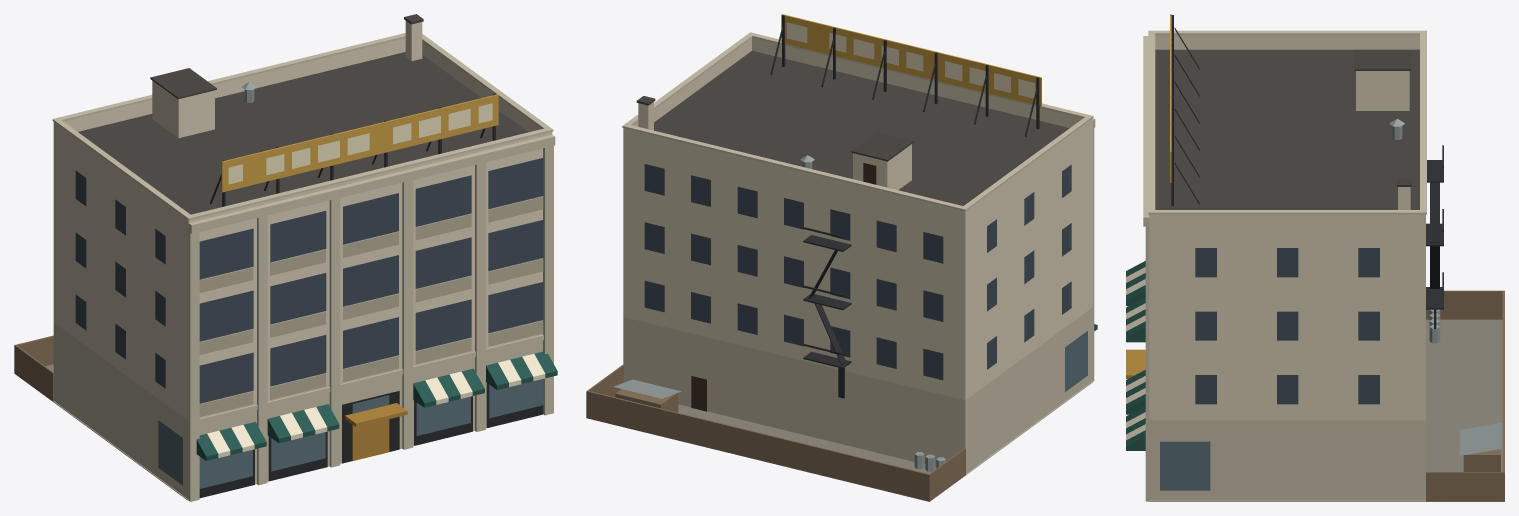
Rendered from office_wd.glb.
3 views of the same model, side by side, from view 1: azimuth 30°, elevation 25°; view 2: azimuth 150°, elevation 25°; view 3: azimuth 270°, elevation 25° (orthographic). The views are drawn at different scales.
Parts seen in each view (by area): view 1: office_wd; view 2: office_wd; view 3: office_wd.
Part boxes in pixels (<box>): office_wd: <box>14,14,557,501</box>; office_wd: <box>586,14,1097,501</box>; office_wd: <box>1126,14,1504,501</box>.
Bounding box in the file's own units: 20 × 16.79 × 17.58.
